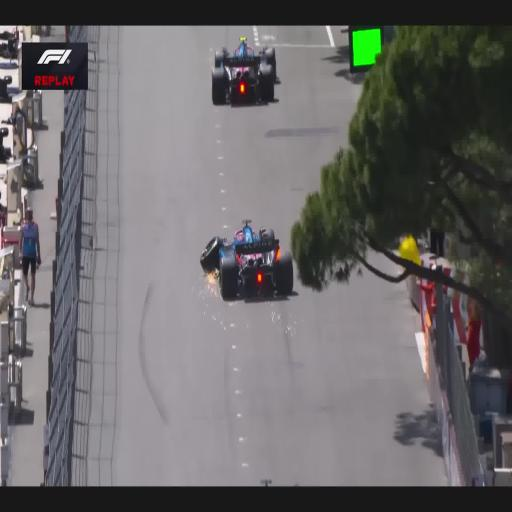f1_car: (200, 220, 293, 299), (211, 37, 276, 105)
